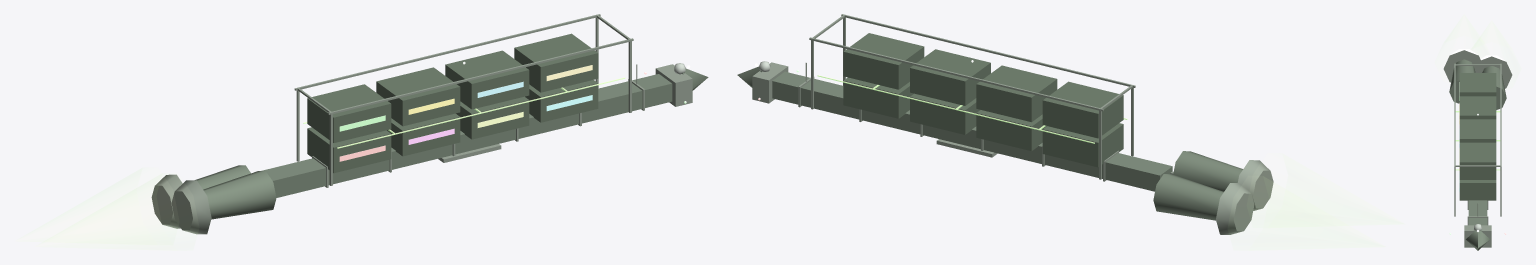
File: CFV_Mule_Longhauler.glb
The picture shows the model from 3 angles, left to right: view 1: azimuth 30°, elevation 25°; view 2: azimuth 150°, elevation 25°; view 3: azimuth 270°, elevation 25°; orthographic projection. The views are drawn at different scales.
Visible parts, largest first — view 1: CFV_Mule_Longhauler; view 2: CFV_Mule_Longhauler; view 3: CFV_Mule_Longhauler.
Part boxes in pixels (x1,y1,x2,y2): CFV_Mule_Longhauler: (44, 14, 708, 244); CFV_Mule_Longhauler: (737, 14, 1348, 234); CFV_Mule_Longhauler: (1443, 37, 1512, 250).
Bounding box in the file's own units: 23.8 × 3.94 × 3.8.
